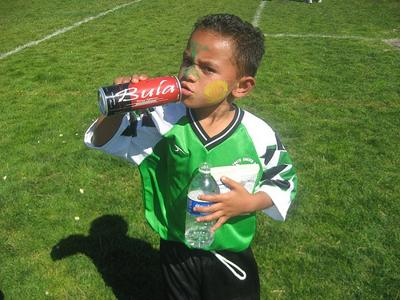person: (78, 14, 304, 299)
